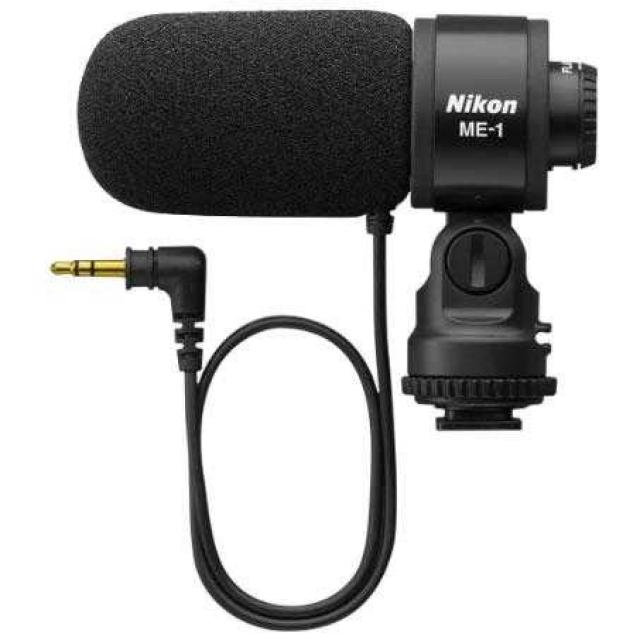microphone: (74, 10, 583, 222)
